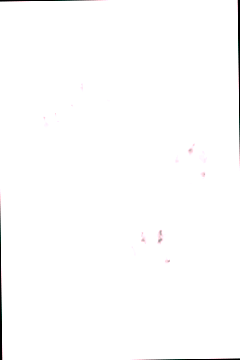ecureuil: (35, 77, 120, 176), (123, 218, 181, 283), (160, 137, 214, 204)
